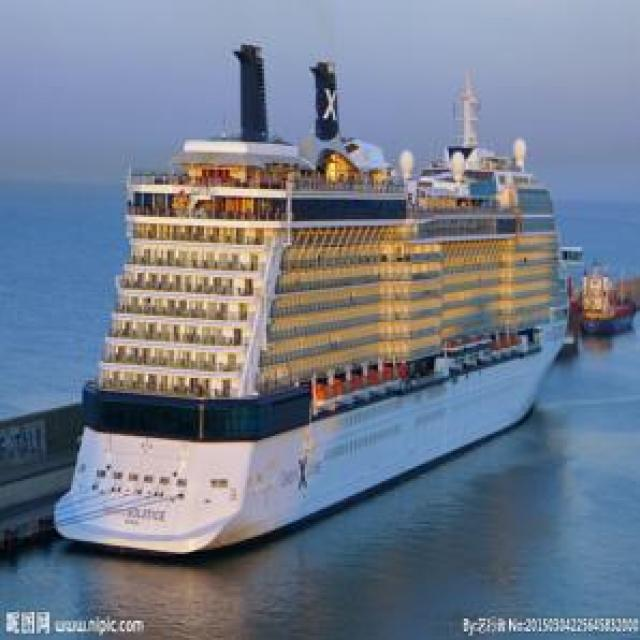passenger ship: (41, 35, 591, 577)
